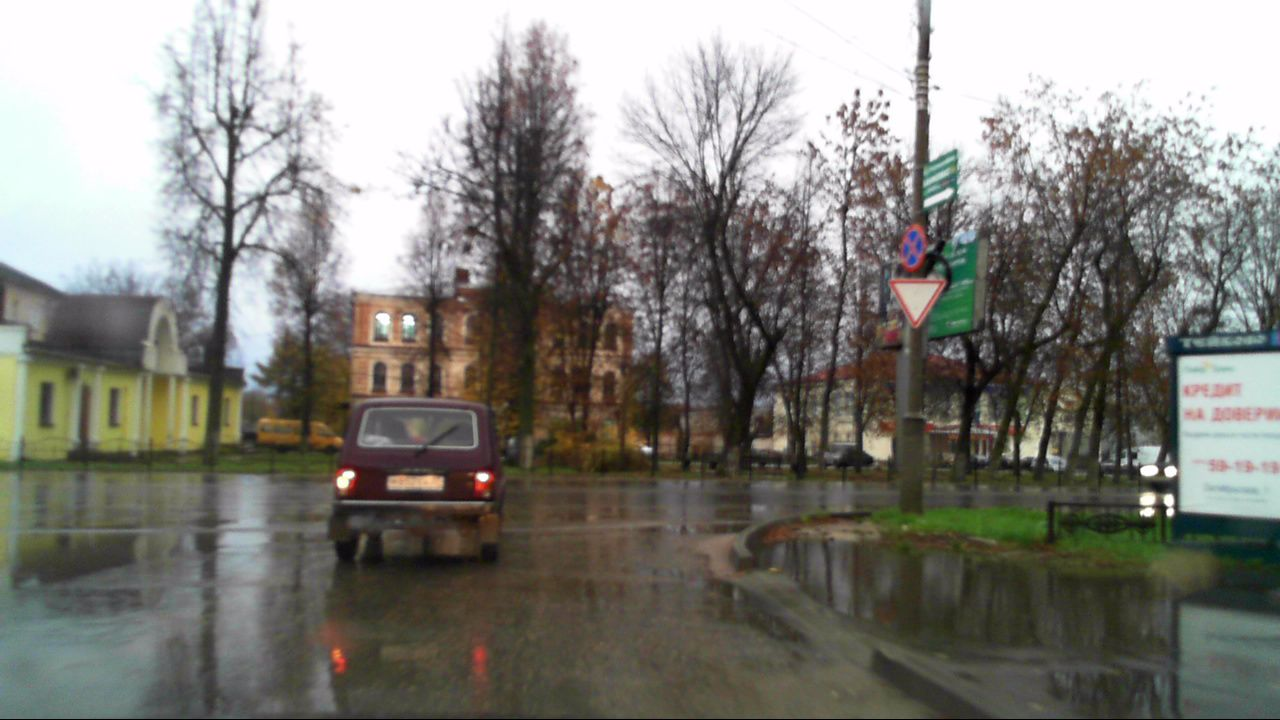No Parking: (899, 222, 925, 272)
